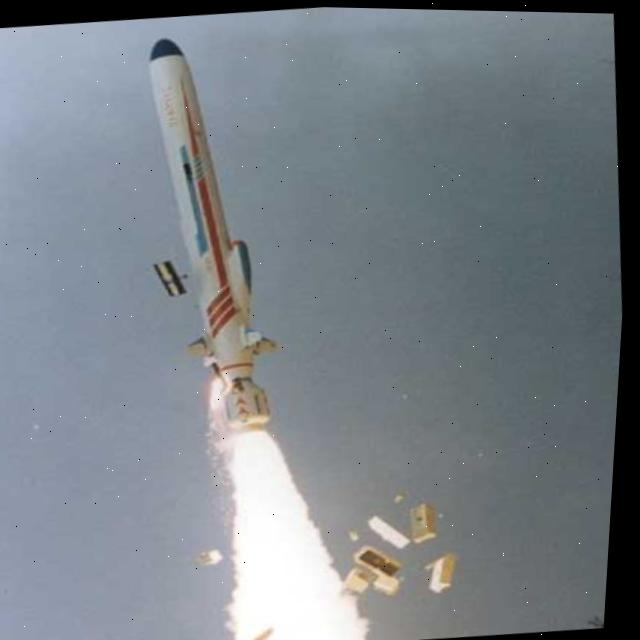missile: (132, 24, 305, 435)
